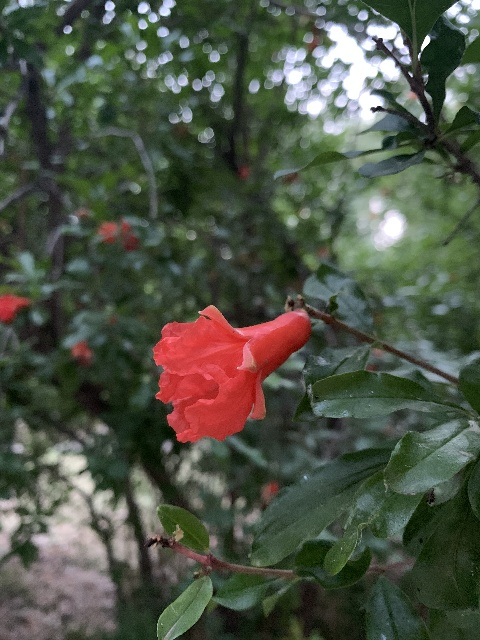flower: (151, 304, 310, 444)
